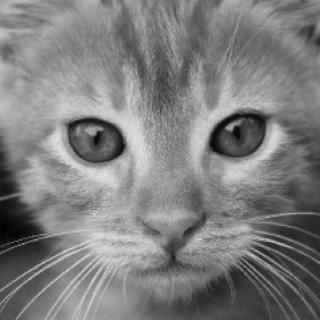cat: (1, 0, 320, 310)
nose: (130, 161, 214, 262)
